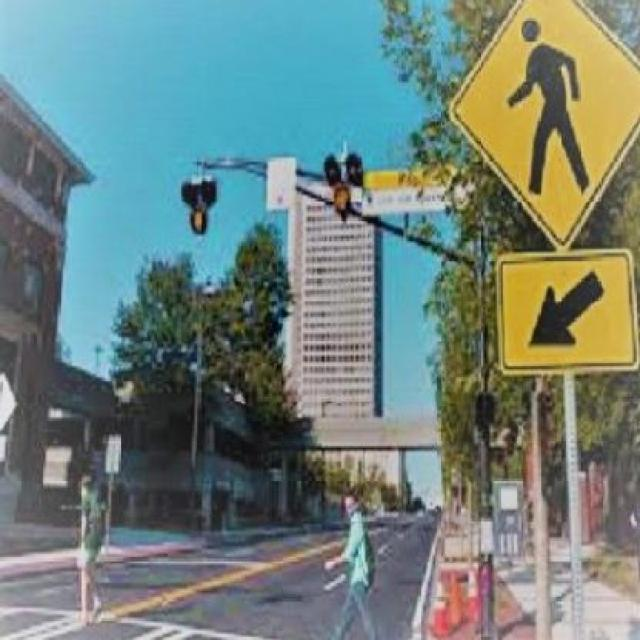Person: (306, 490, 399, 638), (54, 472, 114, 632)
